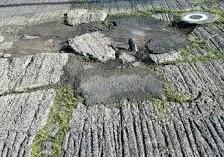alligator-crack: (5, 69, 223, 156)
pothole: (16, 24, 79, 57), (93, 32, 160, 62), (163, 19, 204, 42)
